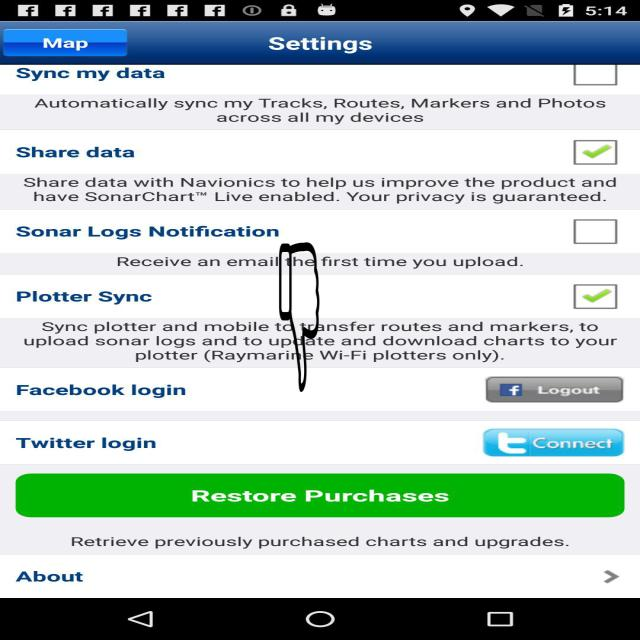obstruction: (279, 242, 320, 392)
